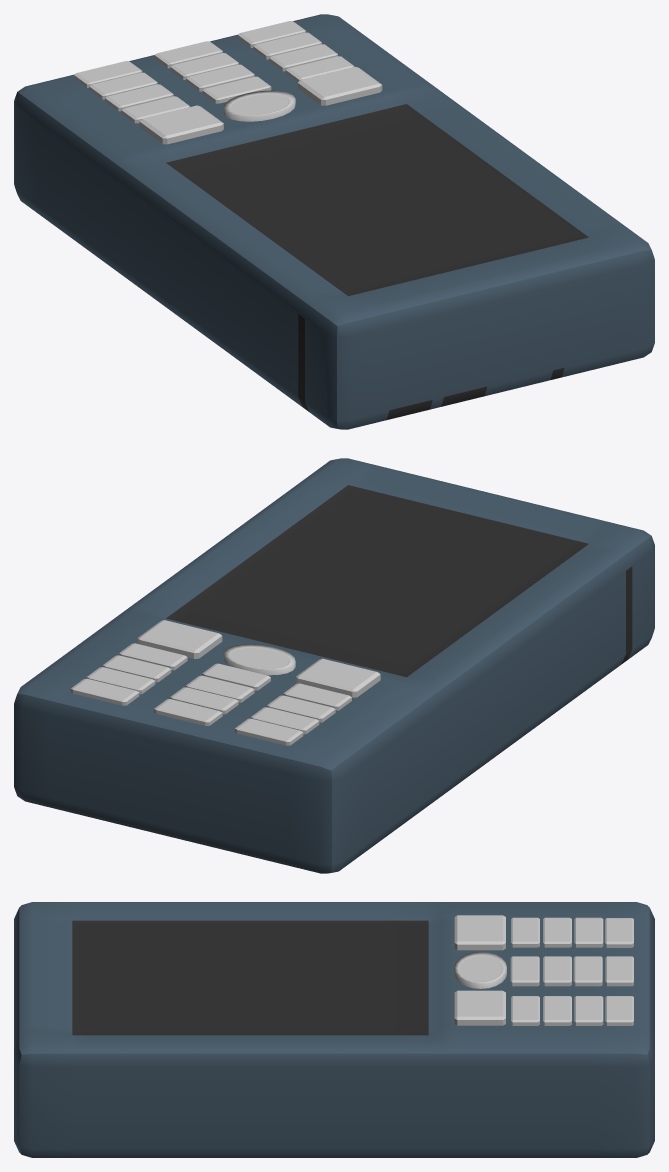
Rendered from telephone.fbx.
The picture shows the model from 3 angles, top to bottom: view 1: azimuth 30°, elevation 25°; view 2: azimuth 150°, elevation 25°; view 3: azimuth 270°, elevation 25°; orthographic projection. The views are drawn at different scales.
Parts seen in each view (by area): view 1: telephone; view 2: telephone; view 3: telephone.
Boxes of the visible parts, box(x1,y1,x2,y2) form: telephone: box(14, 14, 654, 429); telephone: box(14, 458, 654, 873); telephone: box(14, 902, 654, 1157).
Size of the model in its own units: 1.59 by 0.5779 by 2.77.
